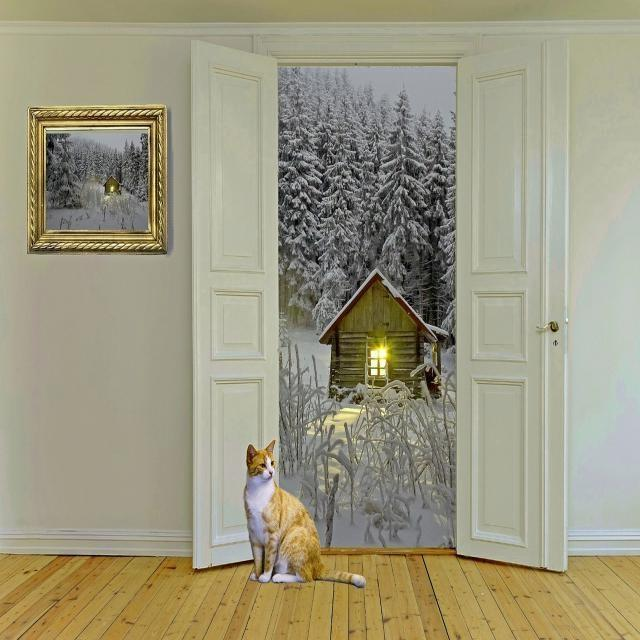door: (454, 34, 567, 571)
